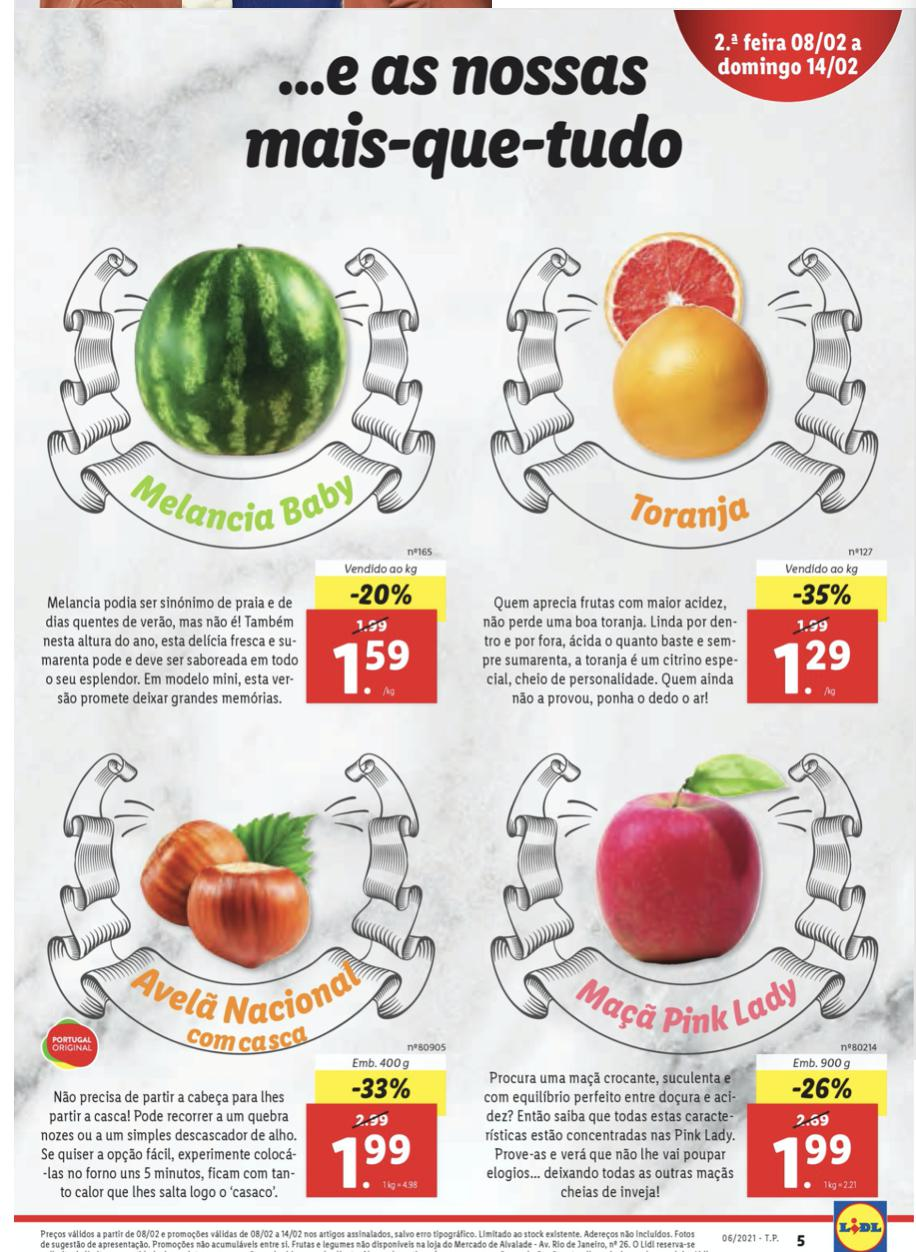price: (767, 634, 859, 700), (773, 1125, 854, 1192), (333, 641, 423, 697), (331, 1131, 412, 1191)
product: (479, 216, 916, 716), (467, 741, 914, 1211), (36, 223, 442, 716), (31, 741, 450, 1203)
promotion: (350, 1073, 414, 1102), (792, 1073, 854, 1102), (790, 580, 854, 608), (347, 580, 415, 605)
